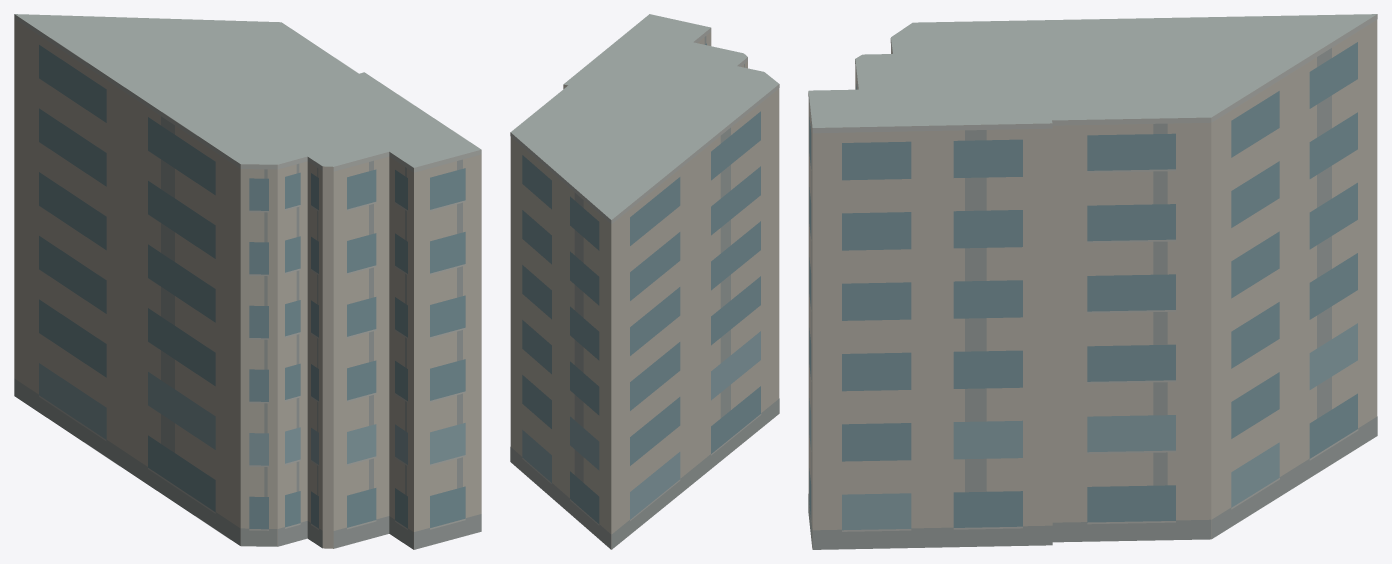
File: survey-upis-32962163.glb
3 views of the same model, side by side, from view 1: azimuth 30°, elevation 25°; view 2: azimuth 150°, elevation 25°; view 3: azimuth 270°, elevation 25° (orthographic). The views are drawn at different scales.
Visible parts, largest first — view 1: survey-upis-32962163.tmp; view 2: survey-upis-32962163.tmp; view 3: survey-upis-32962163.tmp.
Boxes of the visible parts, bbox=[...] form: survey-upis-32962163.tmp: bbox=[14, 14, 481, 549]; survey-upis-32962163.tmp: bbox=[510, 14, 779, 549]; survey-upis-32962163.tmp: bbox=[808, 14, 1377, 549].
Bounding box in the file's own units: 11.31 × 19.5 × 23.85.
